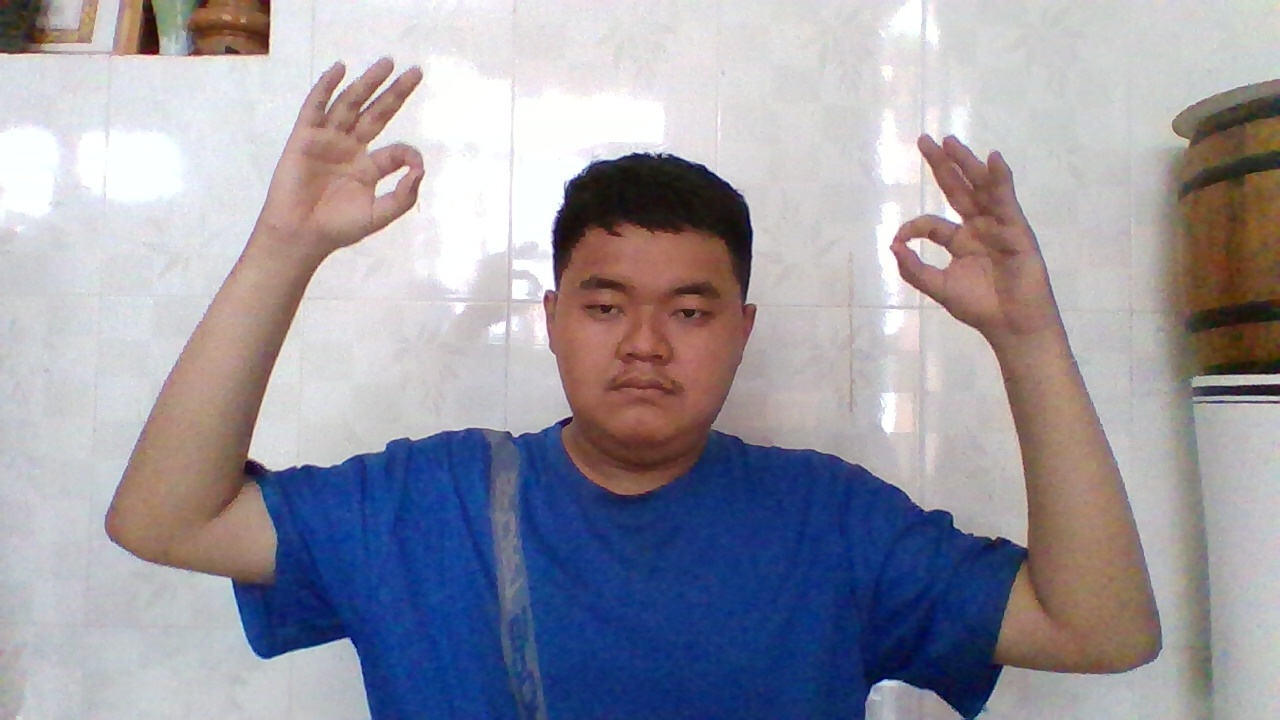T: (883, 123, 1032, 343), (280, 48, 434, 255)
